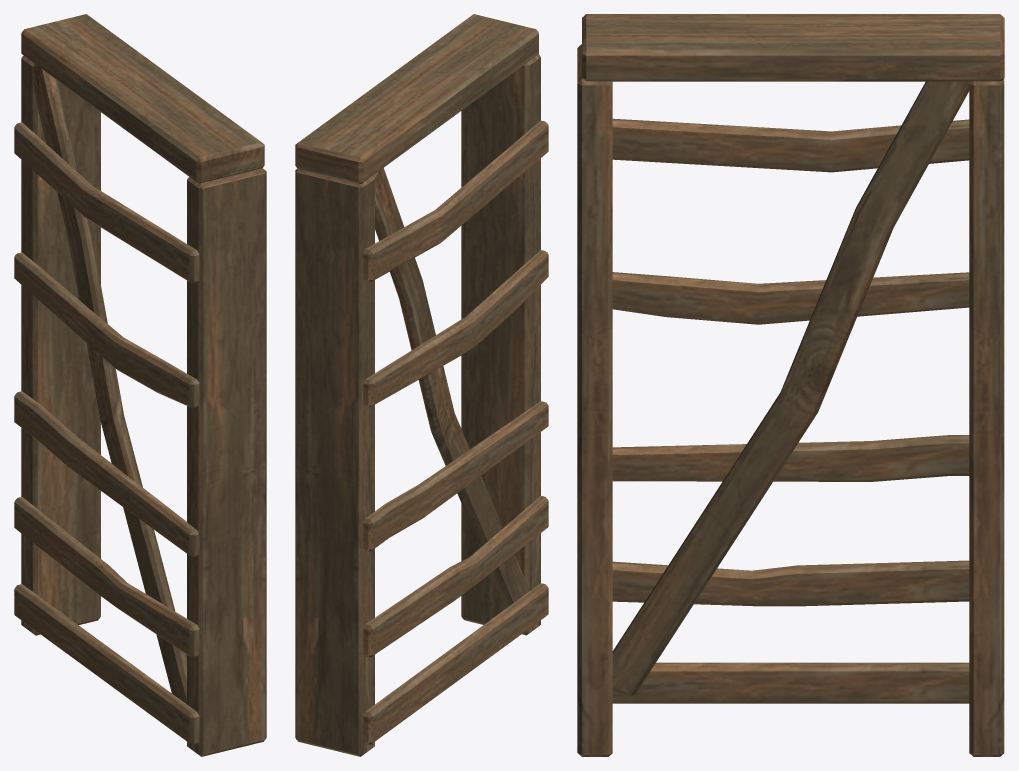
Rendered from SM_wood_frame_02.fbx.
3 renders of one model, left to right at view 1: azimuth 30°, elevation 25°; view 2: azimuth 150°, elevation 25°; view 3: azimuth 270°, elevation 25°, orthographic. The views are drawn at different scales.
Visible parts, largest first — view 1: SM_wood_frame_02_LOD0; view 2: SM_wood_frame_02_LOD0; view 3: SM_wood_frame_02_LOD0.
Boxes of the visible parts, x1,y1,x2,y2 form: SM_wood_frame_02_LOD0: (14, 14, 266, 756); SM_wood_frame_02_LOD0: (295, 14, 548, 756); SM_wood_frame_02_LOD0: (577, 14, 1004, 756).
Bounding box in the file's own units: 49.59 × 202 × 369.
Materials: 1 (1 with a texture image).
